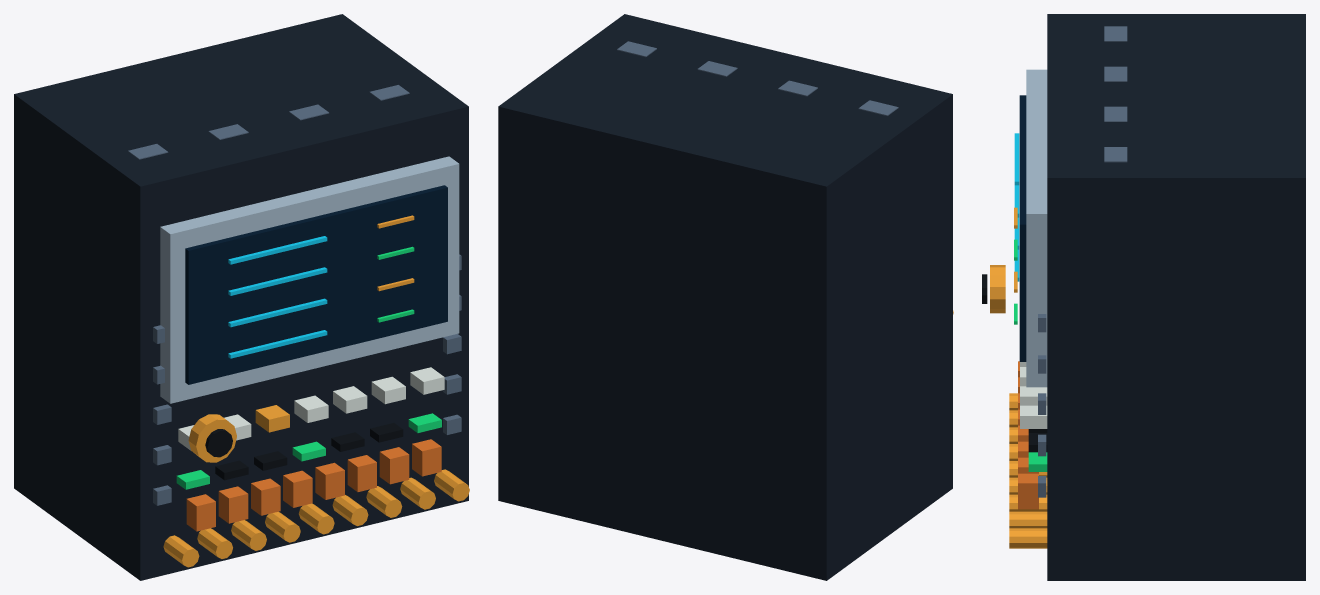
Rendered from 79_L88_OxygenCO2TelemetryGateway.fbx.
3 renders of one model, left to right at view 1: azimuth 30°, elevation 25°; view 2: azimuth 150°, elevation 25°; view 3: azimuth 270°, elevation 25°, orthographic. The views are drawn at different scales.
Visible parts, largest first — view 1: L87_OxygenCO2TelemetryGateway_Part_0000, L87_OxygenCO2TelemetryGateway_Part_0002, L87_OxygenCO2TelemetryGateway_Part_0001, L87_OxygenCO2TelemetryGateway_Part_0009, L87_OxygenCO2TelemetryGateway_Part_0004, L87_OxygenCO2TelemetryGateway_Part_0008, L87_OxygenCO2TelemetryGateway_Part_0006, L87_OxygenCO2TelemetryGateway_Part_0003, L87_OxygenCO2TelemetryGateway_Part_0007, L87_OxygenCO2TelemetryGateway_Part_0005, L87_OxygenCO2TelemetryGateway_Part_0010, L87_OxygenCO2TelemetryGateway_Part_0011; view 2: L87_OxygenCO2TelemetryGateway_Part_0000, L87_OxygenCO2TelemetryGateway_Part_0008; view 3: L87_OxygenCO2TelemetryGateway_Part_0000, L87_OxygenCO2TelemetryGateway_Part_0001, L87_OxygenCO2TelemetryGateway_Part_0004, L87_OxygenCO2TelemetryGateway_Part_0008, L87_OxygenCO2TelemetryGateway_Part_0002, L87_OxygenCO2TelemetryGateway_Part_0009, L87_OxygenCO2TelemetryGateway_Part_0006, L87_OxygenCO2TelemetryGateway_Part_0010, L87_OxygenCO2TelemetryGateway_Part_0003, L87_OxygenCO2TelemetryGateway_Part_0005.
Part boxes in pixels (box(x1,y1,x2,y2)): L87_OxygenCO2TelemetryGateway_Part_0000: box(14, 14, 468, 580); L87_OxygenCO2TelemetryGateway_Part_0002: box(185, 185, 447, 384); L87_OxygenCO2TelemetryGateway_Part_0001: box(160, 156, 459, 403); L87_OxygenCO2TelemetryGateway_Part_0009: box(186, 439, 441, 531); L87_OxygenCO2TelemetryGateway_Part_0004: box(163, 215, 469, 567); L87_OxygenCO2TelemetryGateway_Part_0008: box(128, 85, 461, 505); L87_OxygenCO2TelemetryGateway_Part_0006: box(178, 367, 444, 450); L87_OxygenCO2TelemetryGateway_Part_0003: box(228, 236, 327, 358); L87_OxygenCO2TelemetryGateway_Part_0007: box(215, 423, 403, 480); L87_OxygenCO2TelemetryGateway_Part_0005: box(176, 246, 441, 489); L87_OxygenCO2TelemetryGateway_Part_0010: box(188, 414, 236, 462); L87_OxygenCO2TelemetryGateway_Part_0011: box(205, 429, 232, 457); L87_OxygenCO2TelemetryGateway_Part_0000: box(498, 14, 952, 580); L87_OxygenCO2TelemetryGateway_Part_0008: box(617, 41, 898, 115); L87_OxygenCO2TelemetryGateway_Part_0000: box(1047, 14, 1305, 580); L87_OxygenCO2TelemetryGateway_Part_0001: box(1026, 69, 1047, 387); L87_OxygenCO2TelemetryGateway_Part_0004: box(1009, 207, 1047, 548); L87_OxygenCO2TelemetryGateway_Part_0008: box(1038, 26, 1127, 497); L87_OxygenCO2TelemetryGateway_Part_0002: box(1019, 95, 1026, 361); L87_OxygenCO2TelemetryGateway_Part_0009: box(1018, 361, 1038, 509); L87_OxygenCO2TelemetryGateway_Part_0006: box(1020, 362, 1047, 428); L87_OxygenCO2TelemetryGateway_Part_0010: box(990, 265, 1005, 313); L87_OxygenCO2TelemetryGateway_Part_0003: box(1014, 133, 1019, 281); L87_OxygenCO2TelemetryGateway_Part_0005: box(1014, 239, 1047, 471).
Bounding box in the file's own units: 104 × 120 × 86.88.
